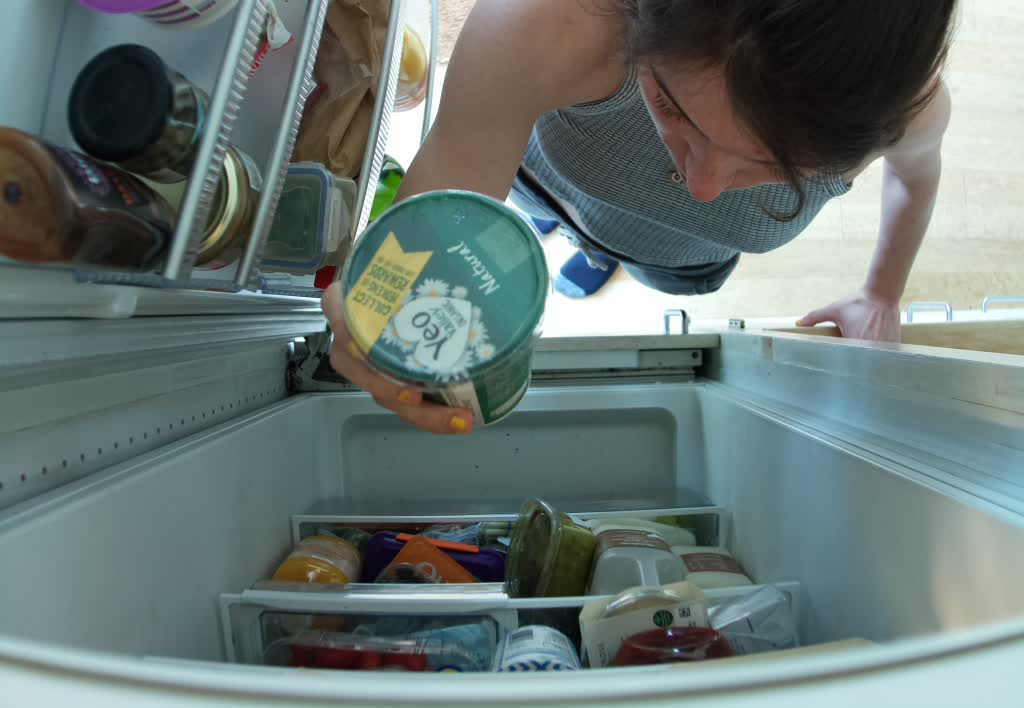yogurt: (338, 189, 556, 431)
